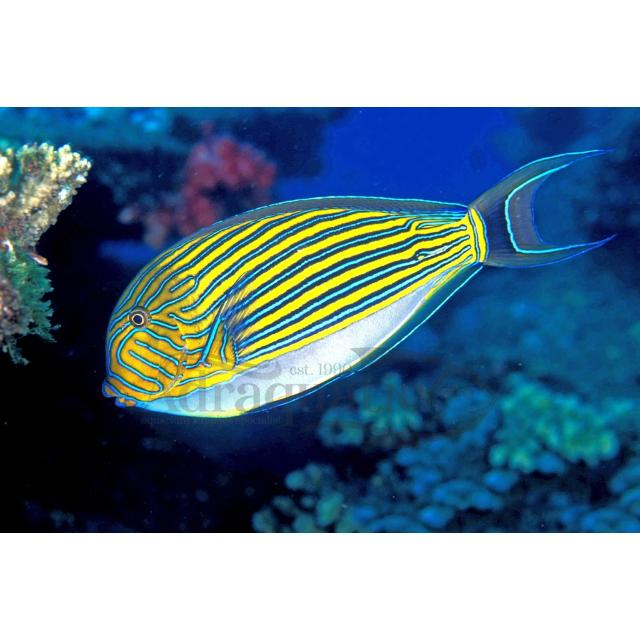Mulut: (81, 354, 170, 430)
Sirip Anal: (349, 248, 495, 382)
Sirip Dada: (176, 263, 290, 402)
Sirip Ekor: (458, 137, 640, 290)
Sirip Perut: (252, 367, 342, 429)
Sirip Punggung: (168, 176, 484, 248)
